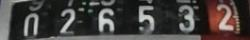digits: (215, 3, 234, 30), (176, 4, 194, 32), (137, 4, 154, 30), (58, 8, 76, 32), (97, 8, 114, 32), (22, 12, 38, 36)
